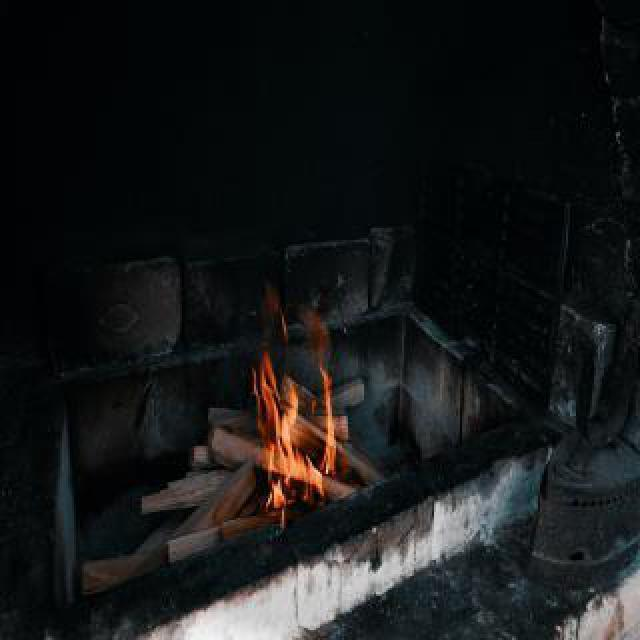Fire: (252, 282, 348, 518)
